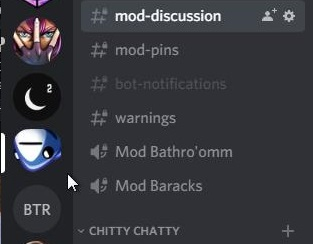cursor: (62, 168, 83, 196)
